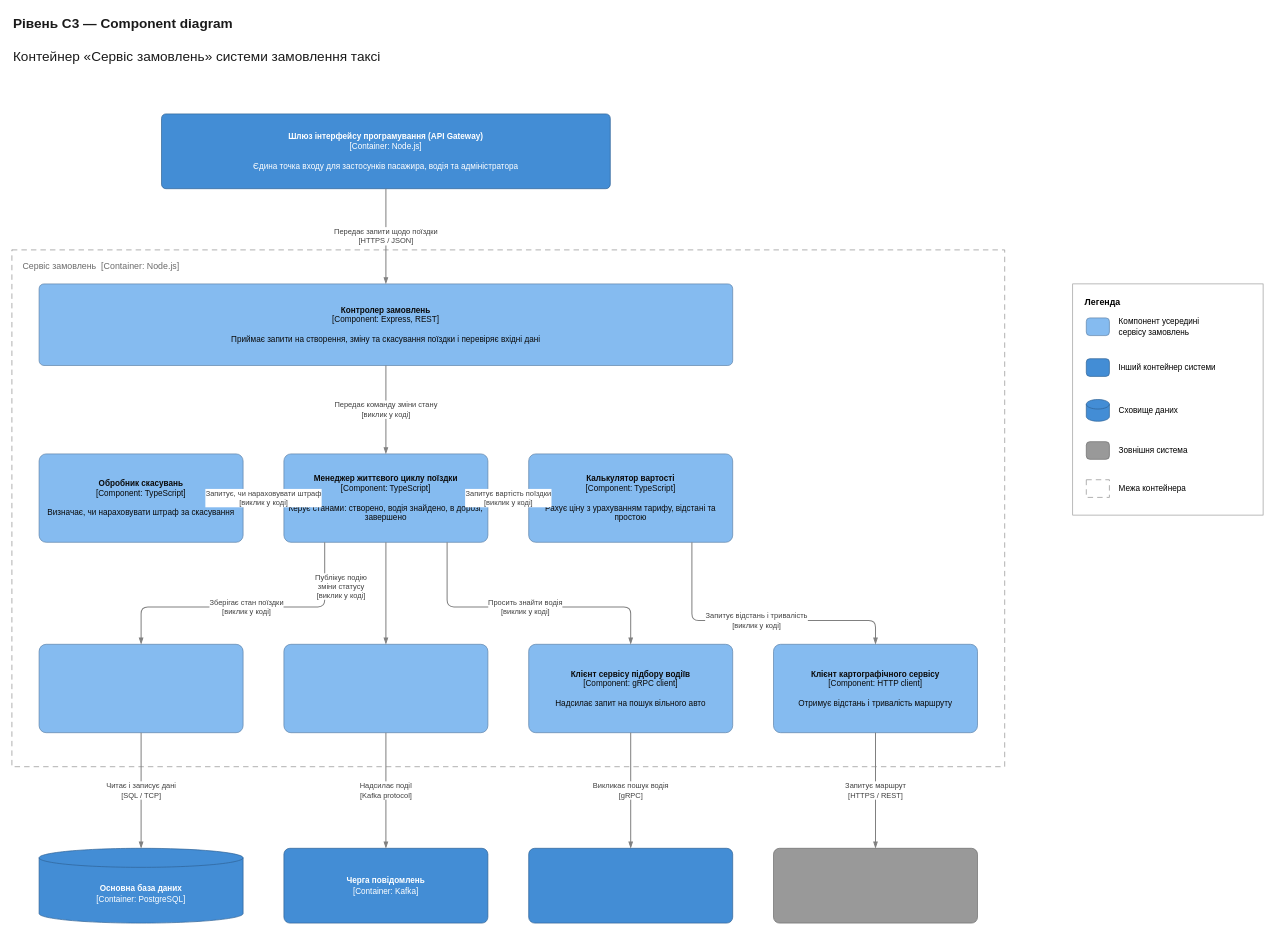
The diagram is 1275 pixels wide and 935 high, and some of its shapes have lost their labels. The centre of each missing label's shape, as x and y in pixels:
"Видавець подій [Component: Kafka client] Публікує події зміни статусу поїздки" goes at (x=385, y=688).
"Картографічний сервіс [External Software System]" goes at (x=875, y=885).
"Репозиторій поїздок [Component: Prisma] Читає і записує дані поїздок у базу" goes at (x=140, y=688).
"Сервіс підбору водіїв [Container: Go]" goes at (x=630, y=885).
